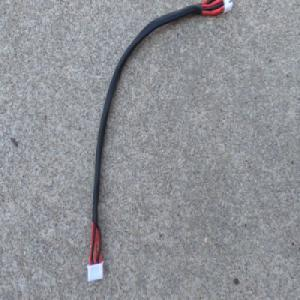Wire: (84, 0, 234, 285)
